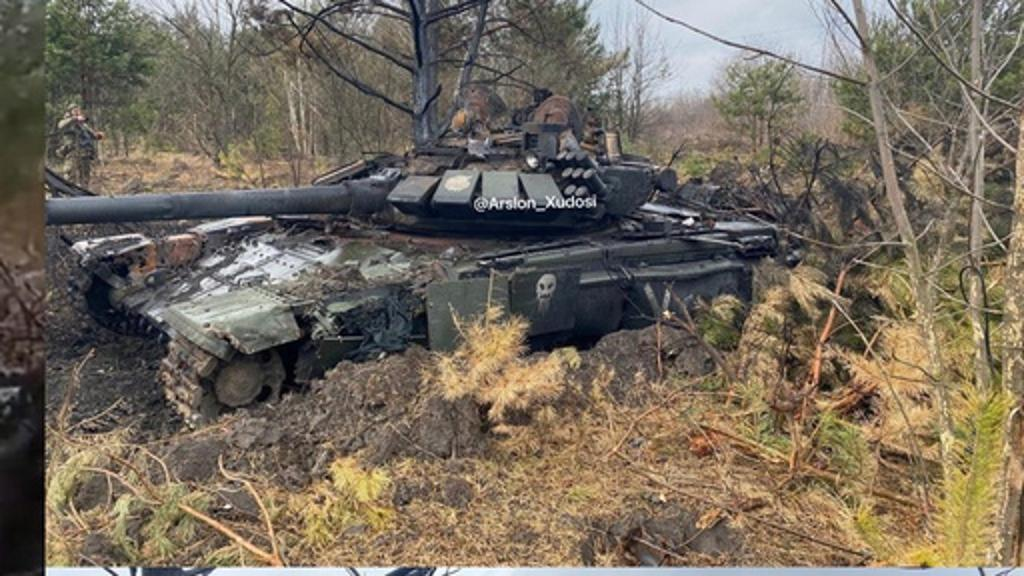TANK: (42, 82, 816, 432)
